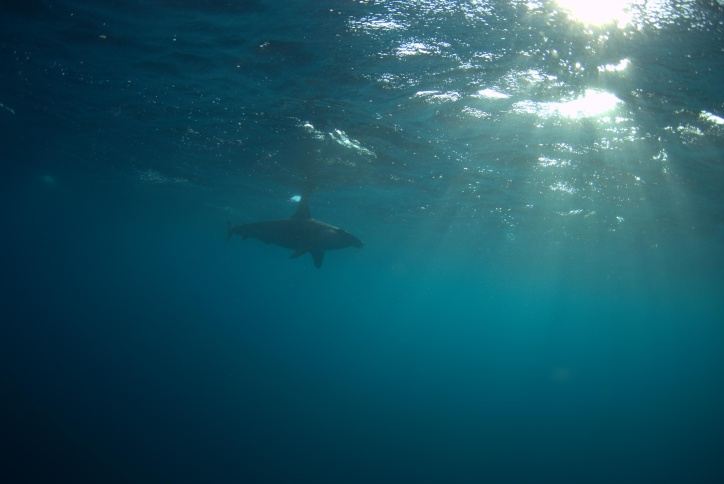Hammer: (221, 181, 374, 293)
